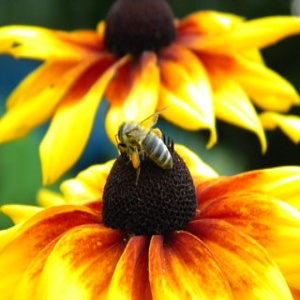bee: (114, 114, 176, 191)
